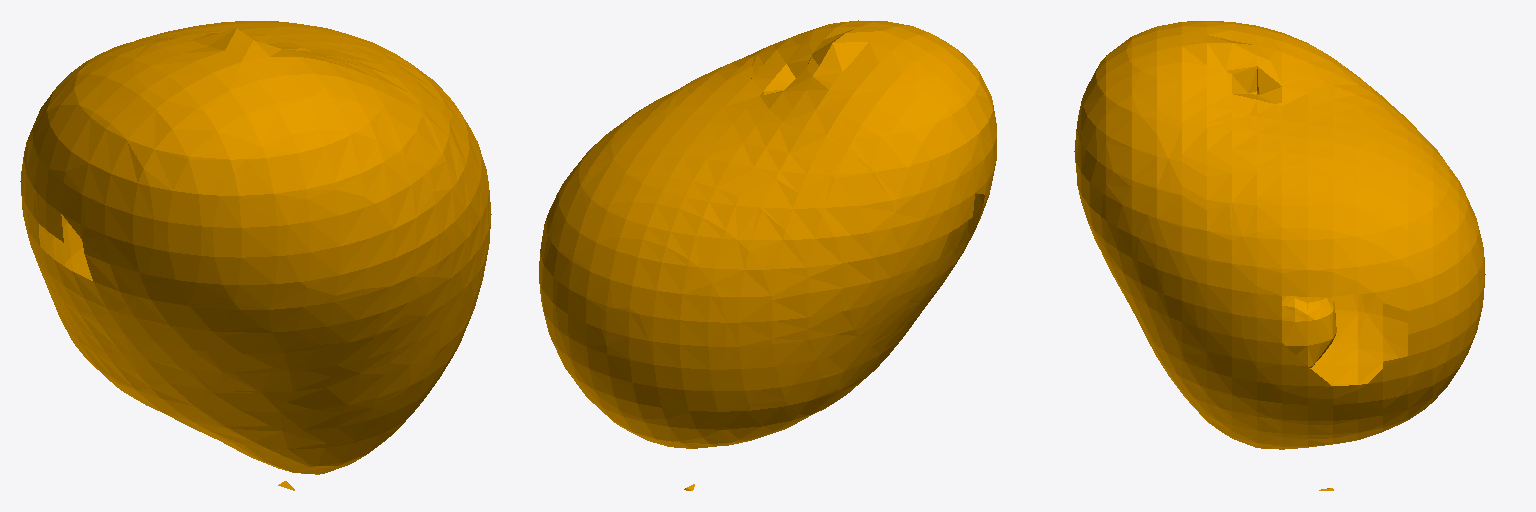
The robot description file, URDF, robot "example_robot":
<?xml version="1.0"?>
<robot name="example_robot">
  <link name="base_link">
    <visual>
      <geometry>
        <mesh filename="package://robot/3Dreconstruction/meshes/reconstructed_mesh.stl"/>
      </geometry>
    </visual>
    <collision>
      <geometry>
        <mesh filename="package://robot/3Dreconstruction/meshes/reconstructed_mesh.stl"/>
      </geometry>
    </collision>
  </link>
</robot>

--- Facts derived from the render (not from the file) ---
3 views of the same robot in one strip: view 1: azimuth 30°, elevation 25°; view 2: azimuth 150°, elevation 25°; view 3: azimuth 270°, elevation 25° (orthographic).
Robot: example_robot — 1 links, 0 joints (none); root link base_link; default pose: all joints at 0.
Visible links, largest first — view 1: base_link; view 2: base_link; view 3: base_link.
Link boxes in pixels (box(x1,y1,x2,y2)): base_link: box(20, 21, 491, 490); base_link: box(539, 20, 996, 490); base_link: box(1074, 21, 1485, 490).
Size in the robot's own frame: 483 by 505 by 550 metres.
1 mesh visuals loaded from 1 distinct referenced files (1 binary STL).